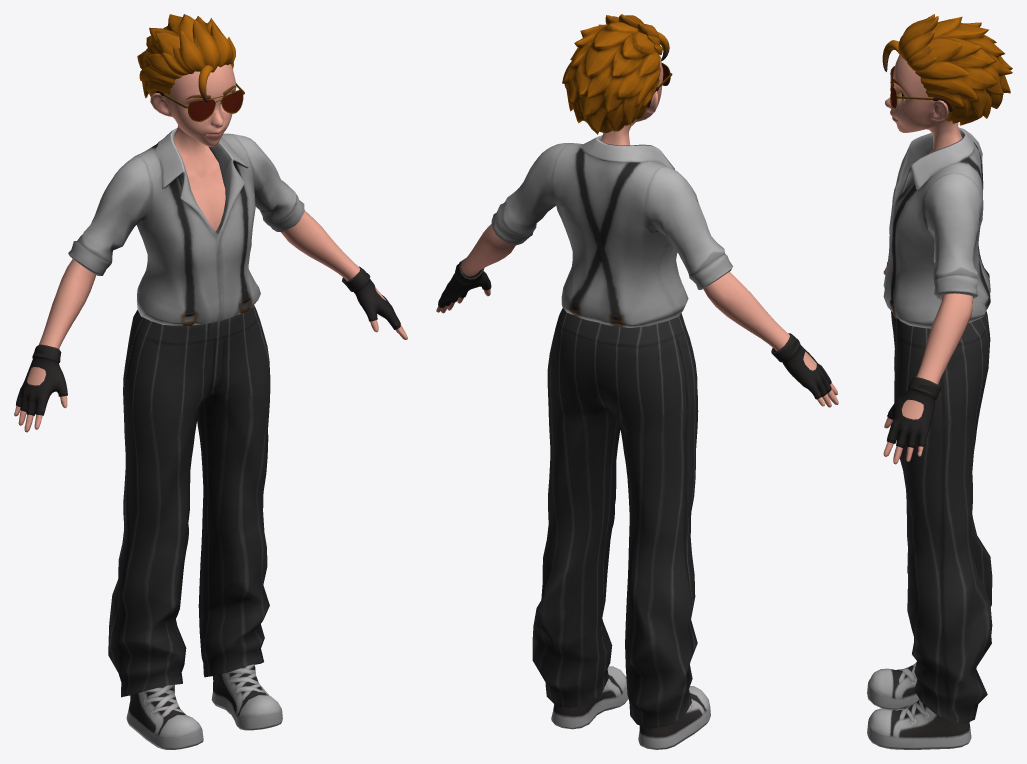
File: StaffJames_Mesh.obj
The picture shows the model from 3 angles, left to right: view 1: azimuth 30°, elevation 25°; view 2: azimuth 150°, elevation 25°; view 3: azimuth 270°, elevation 25°; orthographic projection. The views are drawn at different scales.
Visible parts, largest first — view 1: StaffJames_Mesh_0; view 2: StaffJames_Mesh_0; view 3: StaffJames_Mesh_0.
Boxes of the visible parts, x1,y1,x2,y2 form: StaffJames_Mesh_0: (14, 14, 407, 749); StaffJames_Mesh_0: (436, 14, 838, 749); StaffJames_Mesh_0: (867, 14, 1012, 749).
Size of the model in its own units: 1.06 by 1.84 by 0.3456.
Materials: 1 (1 with a texture image).
